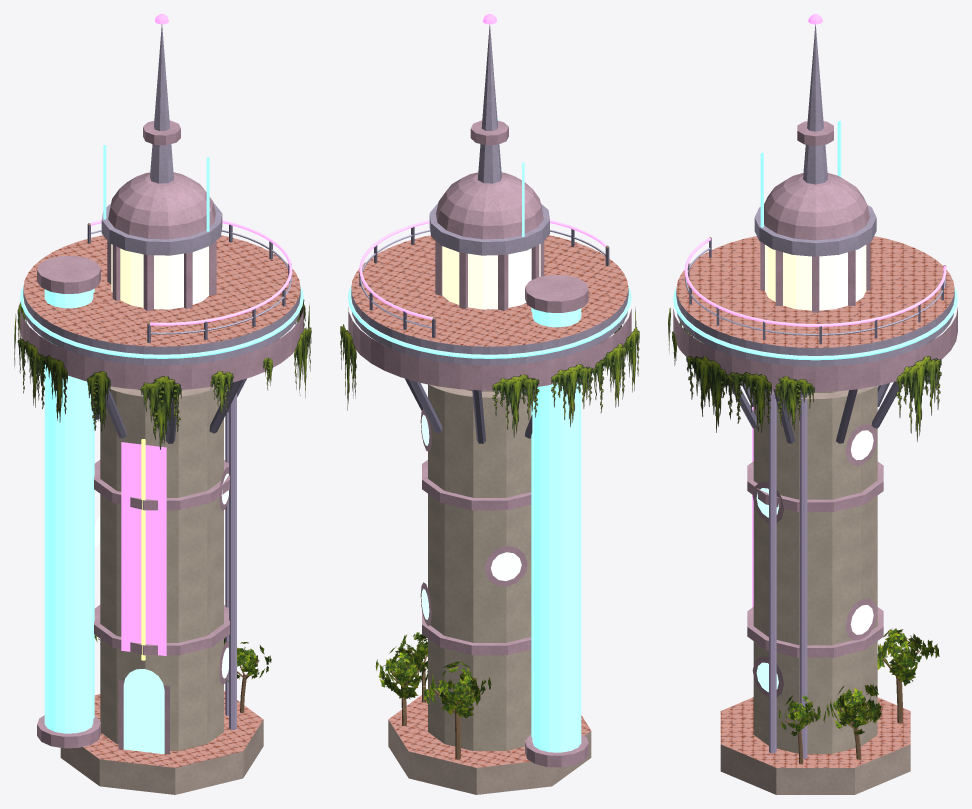
Rendered from TOWER_E.glb.
The picture shows the model from 3 angles, left to right: view 1: azimuth 30°, elevation 25°; view 2: azimuth 150°, elevation 25°; view 3: azimuth 270°, elevation 25°; orthographic projection.
Visible parts, largest first — view 1: BT_TOWER_E_Body, BT_TOWER_E_Moss24, BT_TOWER_E_Deck24_Rail0_Posts, BT_TOWER_E_Deck24_Rail0_Rail, BT_TOWER_E_Trees; view 2: BT_TOWER_E_Body, BT_TOWER_E_Moss24, BT_TOWER_E_Trees, BT_TOWER_E_Deck24_Rail0_Posts, BT_TOWER_E_Deck24_Rail0_Rail; view 3: BT_TOWER_E_Body, BT_TOWER_E_Moss24, BT_TOWER_E_Trees, BT_TOWER_E_Deck24_Rail0_Rail, BT_TOWER_E_Deck24_Rail0_Posts.
Boxes of the visible parts, x1,y1,x2,y2 form: BT_TOWER_E_Body: [20, 14, 303, 794]; BT_TOWER_E_Moss24: [14, 299, 311, 449]; BT_TOWER_E_Deck24_Rail0_Posts: [87, 224, 291, 342]; BT_TOWER_E_Deck24_Rail0_Rail: [90, 220, 292, 325]; BT_TOWER_E_Trees: [94, 635, 271, 713]; BT_TOWER_E_Body: [348, 14, 631, 794]; BT_TOWER_E_Moss24: [340, 307, 639, 437]; BT_TOWER_E_Trees: [375, 632, 491, 759]; BT_TOWER_E_Deck24_Rail0_Posts: [359, 227, 609, 337]; BT_TOWER_E_Deck24_Rail0_Rail: [359, 220, 607, 319]; BT_TOWER_E_Body: [673, 14, 957, 794]; BT_TOWER_E_Moss24: [668, 308, 941, 441]; BT_TOWER_E_Trees: [778, 628, 939, 763]; BT_TOWER_E_Deck24_Rail0_Rail: [684, 237, 946, 326]; BT_TOWER_E_Deck24_Rail0_Posts: [685, 239, 945, 344].
Bounding box in the file's own units: 13.88 × 38.15 × 13.54.
15 materials, 6 textured.
